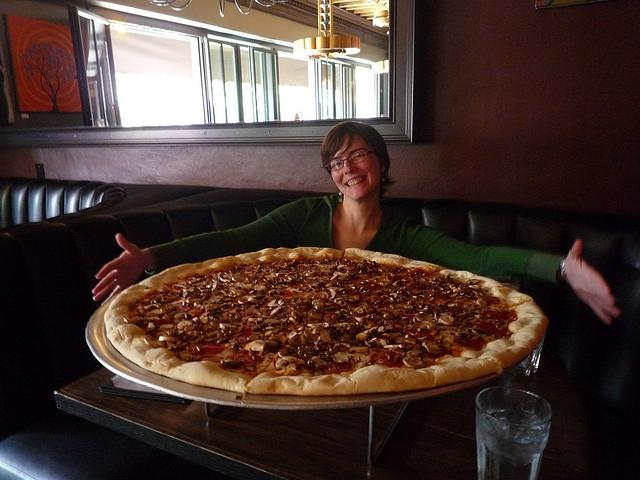mushroom: (276, 356, 306, 371), (472, 328, 502, 342), (402, 350, 423, 368), (422, 340, 447, 355), (356, 326, 378, 342), (330, 352, 360, 363), (300, 281, 328, 292), (308, 355, 328, 370), (412, 320, 436, 332), (157, 330, 181, 342), (332, 338, 359, 348), (243, 340, 267, 351), (440, 329, 468, 338), (268, 334, 288, 346), (208, 326, 228, 338), (327, 288, 344, 302), (434, 293, 452, 306), (187, 294, 210, 304), (328, 326, 344, 340), (296, 346, 310, 362), (264, 340, 280, 353), (254, 306, 272, 317), (268, 288, 286, 299), (349, 322, 365, 334), (348, 346, 369, 355), (248, 298, 266, 308), (438, 315, 454, 326), (177, 336, 190, 349), (381, 332, 402, 340), (403, 334, 417, 346), (308, 308, 322, 320), (262, 318, 282, 326), (458, 312, 478, 320), (439, 312, 459, 320), (160, 304, 176, 314), (184, 325, 196, 338), (306, 322, 328, 329), (146, 309, 167, 316), (219, 323, 237, 331), (416, 313, 434, 321), (162, 294, 180, 302), (206, 280, 218, 292), (200, 312, 213, 323), (310, 300, 324, 310), (314, 263, 334, 270), (364, 338, 378, 348), (316, 290, 329, 300), (244, 264, 260, 272), (407, 288, 423, 296), (380, 338, 396, 346), (228, 336, 238, 348), (254, 284, 266, 294), (378, 280, 393, 288), (392, 278, 407, 286), (218, 272, 230, 282), (220, 302, 240, 308), (385, 354, 402, 361), (232, 275, 246, 283), (281, 346, 295, 354), (274, 274, 286, 283), (232, 283, 244, 292), (234, 354, 247, 362), (288, 317, 299, 326), (174, 312, 188, 319), (464, 303, 476, 311), (348, 294, 360, 302), (204, 322, 215, 330), (235, 305, 246, 313), (474, 308, 488, 314), (303, 278, 317, 284), (344, 313, 356, 320), (446, 282, 456, 290), (359, 287, 369, 295), (176, 290, 187, 297), (232, 271, 244, 277), (200, 287, 212, 293), (288, 324, 297, 332), (372, 305, 380, 314), (332, 271, 346, 276), (263, 278, 274, 284), (381, 271, 394, 276), (370, 292, 379, 299), (334, 297, 344, 303), (368, 266, 378, 272), (314, 334, 320, 344), (192, 317, 200, 324), (212, 275, 220, 282), (185, 284, 198, 288), (344, 267, 357, 271), (376, 326, 386, 331), (390, 294, 402, 298), (303, 297, 311, 303), (221, 290, 229, 296), (291, 306, 299, 312), (500, 319, 509, 324), (247, 320, 254, 326), (407, 324, 414, 330), (429, 279, 436, 285), (148, 322, 155, 328), (296, 277, 304, 282), (360, 280, 370, 284), (405, 308, 413, 313), (284, 258, 292, 262), (350, 260, 358, 264), (418, 302, 423, 308), (226, 298, 234, 301), (382, 308, 388, 312), (397, 274, 407, 276), (397, 290, 402, 294), (262, 299, 268, 302)
